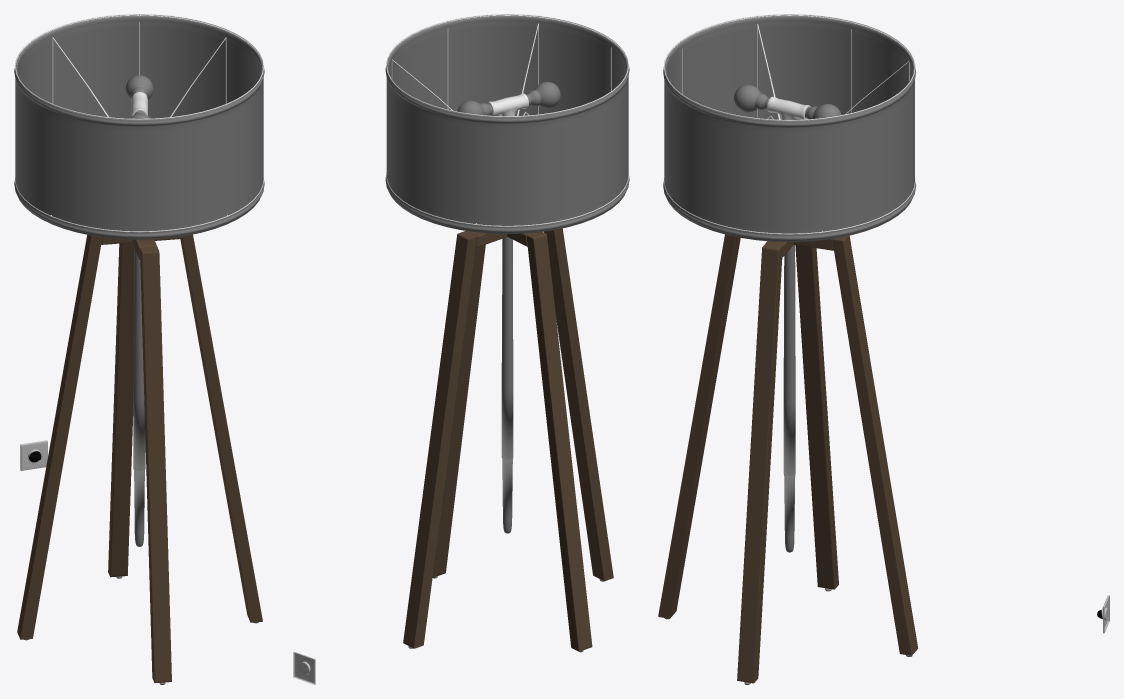
File: uploads_files_2074012_034+-+Pendant+Light+2.FBX
3 views of the same model, side by side, from view 1: azimuth 30°, elevation 25°; view 2: azimuth 150°, elevation 25°; view 3: azimuth 270°, elevation 25° (orthographic). The views are drawn at different scales.
Visible parts, largest first — view 1: Architectural_Model_Lamp, Architectural_Model_Lamp_Legs; view 2: Architectural_Model_Lamp, Architectural_Model_Lamp_Legs; view 3: Architectural_Model_Lamp, Architectural_Model_Lamp_Legs.
Part boxes in pixels (bbox=[...]): Architectural_Model_Lamp: bbox=[14, 14, 264, 546]; Architectural_Model_Lamp_Legs: bbox=[17, 234, 262, 684]; Architectural_Model_Lamp: bbox=[293, 14, 629, 684]; Architectural_Model_Lamp_Legs: bbox=[403, 228, 613, 652]; Architectural_Model_Lamp: bbox=[663, 14, 1109, 633]; Architectural_Model_Lamp_Legs: bbox=[658, 234, 917, 684].
Bounding box in the file's own units: 700 × 1738 × 1250.
